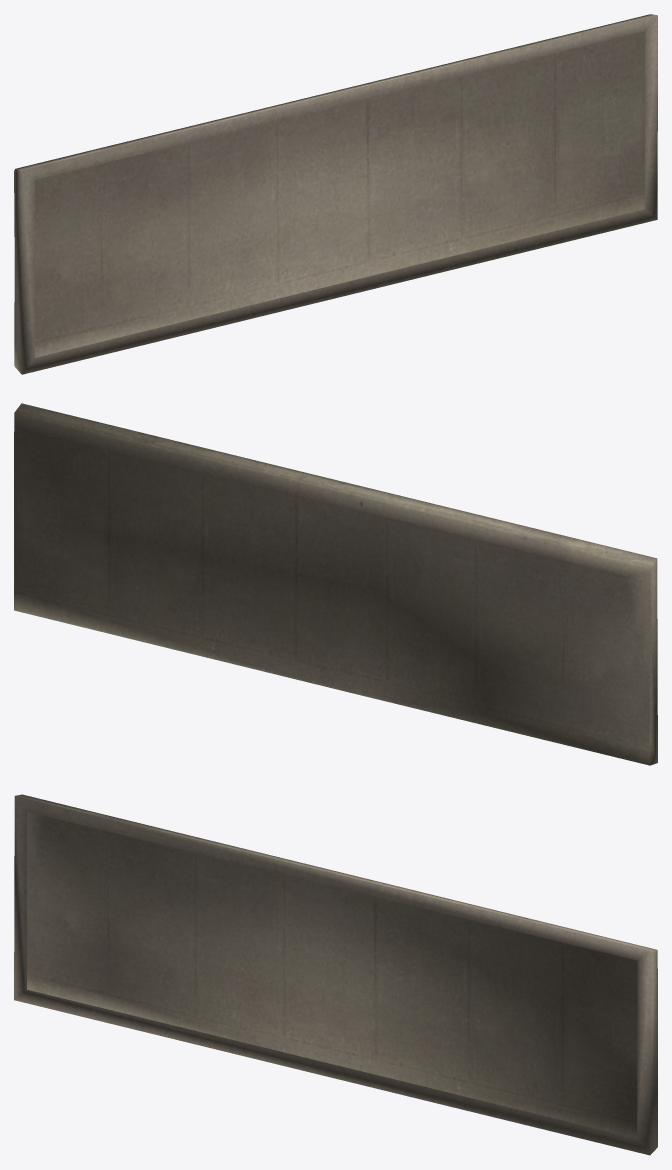
Rendered from median.glb.
3 views of the same model, one above another, from view 1: azimuth 30°, elevation 25°; view 2: azimuth 150°, elevation 25°; view 3: azimuth 330°, elevation 25° (orthographic).
Parts seen in each view (by area): view 1: Megascans median; view 2: Megascans median; view 3: Megascans median.
Part boxes in pixels (bbox=[...]): Megascans median: bbox=[14, 14, 657, 374]; Megascans median: bbox=[14, 403, 657, 765]; Megascans median: bbox=[14, 794, 657, 1155].
Bounding box in the file's own units: 6.5 × 2 × 0.1459.
Materials: 1 (1 with a texture image).
